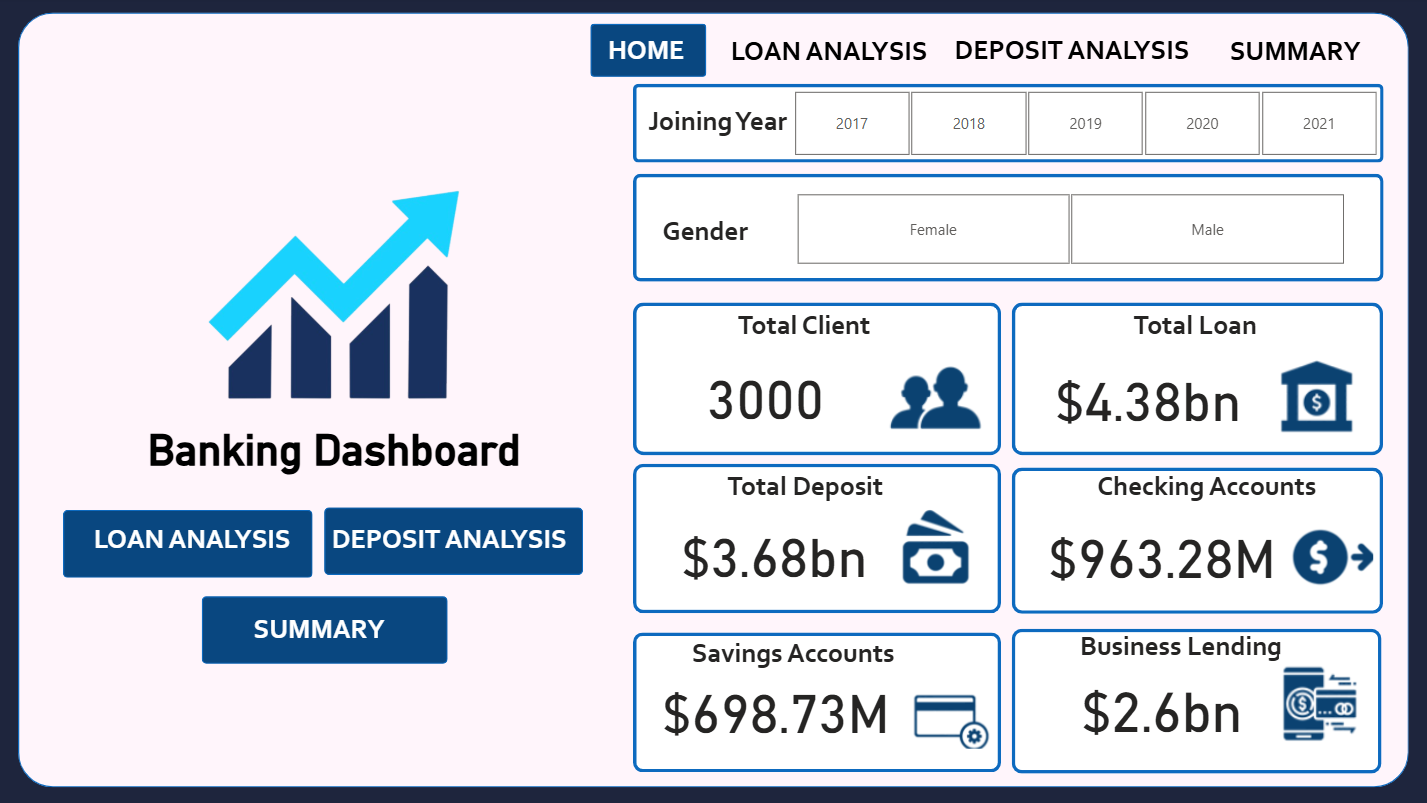

The page's visual inventory and layout, read from the dashboard file:
{"tool":"powerbi","page":{"name":"Home","canvas":[1280,720],"ordinal":0},"visuals":[{"type":"shape","box":[22.5,15,1236.2,688.8],"z":0},{"type":"shape","box":[568.8,79,667.1,70],"z":1000},{"type":"shape","box":[568.8,159,667.1,95.7],"z":2000},{"type":"shape","box":[568.6,272.9,327.1,135.7],"z":3000},{"type":"shape","box":[905.7,272.9,330,135.7],"z":4000},{"type":"shape","box":[568.6,417.1,327.1,132.9],"z":5000},{"type":"shape","box":[905.7,420,330,130],"z":6000},{"type":"shape","box":[568.6,567.1,327.1,124.3],"z":7000},{"type":"shape","box":[905.7,562.9,328.6,128.6],"z":8000},{"type":"shape","box":[294.3,455.1,230,60],"z":9000},{"type":"shape","box":[185.7,534.3,218.6,60],"z":10000},{"type":"textbox","box":[82.9,377.1,440,61.4],"z":11000},{"type":"image","box":[138.6,148.6,328.6,235.7],"z":12000},{"type":"textbox","box":[557,92.1,174.9,44.6],"z":13000},{"type":"textbox","box":[558.5,189.8,148.4,44.6],"z":14000},{"type":"textbox","box":[631.8,273,177.3,44.6],"z":15000},{"type":"textbox","box":[602.9,417.1,237.1,44.3],"z":16000},{"type":"textbox","box":[612.9,564.3,195.7,45.7],"z":17000},{"type":"textbox","box":[995,273,148.4,44.6],"z":18000},{"type":"textbox","box":[948.6,558.6,214.3,45.7],"z":19000},{"type":"textbox","box":[948.6,417.1,260,44.3],"z":20000},{"type":"textbox","box":[272.9,463.7,264.3,44.3],"z":21000},{"type":"shape","box":[62.1,457.2,222,60.3],"z":22000},{"type":"textbox","box":[84.3,463.7,187.1,44.3],"z":23000},{"type":"textbox","box":[175.7,542.9,228.6,44.3],"z":24000},{"type":"card","fields":{"Values":["Sum(Banking_Clients.Saving Accounts)"]},"box":[560,591.4,271.4,84.3],"z":25000},{"type":"card","fields":{"Values":["Sum(Banking_Clients.Business Lending)"]},"box":[902.9,590,271.4,84.3],"z":26000},{"type":"card","fields":{"Values":["Banking_Clients.Total Deposit"]},"box":[558.6,452.9,271.4,82.9],"z":27000},{"type":"card","fields":{"Values":["CountNonNull(Banking_Clients.Client ID)"]},"box":[551.4,312.9,271.4,82.9],"z":28000},{"type":"card","fields":{"Values":["Sum(Banking_Clients.Checking Accounts)"]},"box":[902.9,454.3,271.4,82.9],"z":29000},{"type":"card","fields":{"Values":["Banking_Clients.Total Loan"]},"box":[891.4,314.3,271.4,82.9],"z":30000},{"type":"slicer","fields":{"Values":["Banking_Clients.GenderId"]},"box":[688.8,170.4,535.7,75.7],"z":31000},{"type":"slicer","fields":{"Values":["Banking_Clients.Year"]},"box":[687.1,79.3,567.1,70],"z":32000},{"type":"actionButton","box":[75.7,461.4,208.6,51.4],"z":33000},{"type":"actionButton","box":[180,555.7,207.1,51.4],"z":34000},{"type":"actionButton","box":[302.9,461.4,207.1,51.4],"z":35000},{"type":"textbox","box":[848,28.5,222.5,45],"z":36000},{"type":"shape","box":[531.4,25.7,102.9,47.1],"z":37000},{"type":"textbox","box":[645.2,30,200,43.8],"z":38000},{"type":"textbox","box":[1070.6,30,172.9,45.7],"z":39000},{"type":"textbox","box":[535.2,28.7,90,43.8],"z":40000},{"type":"image","box":[784.3,302.9,100,102.9],"z":41000},{"type":"image","box":[811.4,595.7,80,95.7],"z":42000},{"type":"image","box":[791.4,445.7,85.7,90],"z":43000},{"type":"image","box":[1137.1,581.4,87.1,94.3],"z":44000},{"type":"image","box":[1144.3,451.4,87.1,85.7],"z":45000},{"type":"image","box":[1127.1,302.9,97.1,104.3],"z":46000}]}

Visuals, with their boxes in screenshot pixels (x1, y1, x2, y2), scaled from the page's 1280x720 canvas onto the 1427x803 screenshot:
shape: <region>25, 17, 1403, 785</region>
shape: <region>634, 88, 1378, 166</region>
shape: <region>634, 177, 1378, 284</region>
shape: <region>634, 304, 999, 456</region>
shape: <region>1010, 304, 1378, 456</region>
shape: <region>634, 465, 999, 613</region>
shape: <region>1010, 468, 1378, 613</region>
shape: <region>634, 632, 999, 771</region>
shape: <region>1010, 628, 1376, 771</region>
shape: <region>328, 508, 585, 574</region>
shape: <region>207, 596, 451, 663</region>
textbox: <region>92, 421, 583, 489</region>
image: <region>155, 166, 521, 429</region>
textbox: <region>621, 103, 816, 152</region>
textbox: <region>623, 212, 788, 261</region>
textbox: <region>704, 304, 902, 354</region>
textbox: <region>672, 465, 936, 515</region>
textbox: <region>683, 629, 901, 680</region>
textbox: <region>1109, 304, 1275, 354</region>
textbox: <region>1058, 623, 1296, 674</region>
textbox: <region>1058, 465, 1347, 515</region>
textbox: <region>304, 517, 599, 567</region>
shape: <region>69, 510, 317, 577</region>
textbox: <region>94, 517, 303, 567</region>
textbox: <region>196, 605, 451, 655</region>
card - Sum(Banking_Clients.Saving Accounts): <region>624, 660, 927, 754</region>
card - Sum(Banking_Clients.Business Lending): <region>1007, 658, 1309, 752</region>
card - Banking_Clients.Total Deposit: <region>623, 505, 925, 598</region>
card - CountNonNull(Banking_Clients.Client ID): <region>615, 349, 917, 441</region>
card - Sum(Banking_Clients.Checking Accounts): <region>1007, 507, 1309, 599</region>
card - Banking_Clients.Total Loan: <region>994, 351, 1296, 443</region>
slicer - Banking_Clients.GenderId: <region>768, 190, 1365, 274</region>
slicer - Banking_Clients.Year: <region>766, 88, 1398, 167</region>
actionButton: <region>84, 515, 317, 572</region>
actionButton: <region>201, 620, 432, 677</region>
actionButton: <region>338, 515, 569, 572</region>
textbox: <region>945, 32, 1193, 82</region>
shape: <region>592, 29, 707, 81</region>
textbox: <region>719, 33, 942, 82</region>
textbox: <region>1194, 33, 1386, 84</region>
textbox: <region>597, 32, 697, 81</region>
image: <region>874, 338, 986, 453</region>
image: <region>905, 664, 994, 771</region>
image: <region>882, 497, 978, 597</region>
image: <region>1268, 648, 1365, 754</region>
image: <region>1276, 503, 1373, 599</region>
image: <region>1257, 338, 1365, 454</region>
